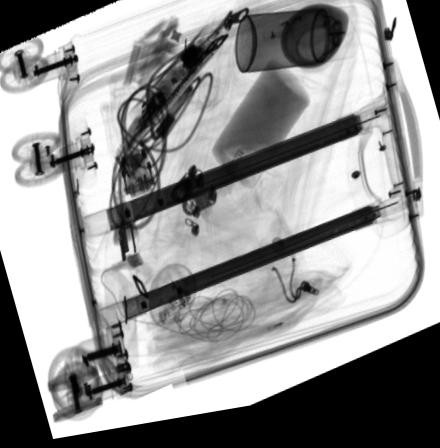Sprayer: (235, 16, 357, 81)
